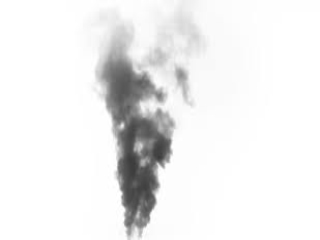smoke: (90, 8, 197, 239)
